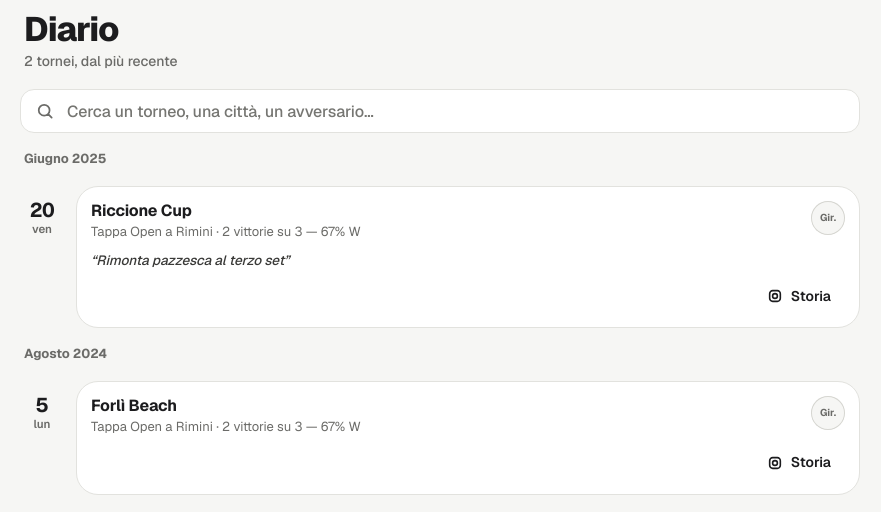
Test case: Diario — pulsante di reset › svuota il campo, rimette tutto il diario e lascia il focus nel campo
Check: the link "Riccione Cup" is shown, box [91, 200, 192, 221]
Click the search field named "Cerca nel diario" at (435, 111), box [65, 90, 805, 132]
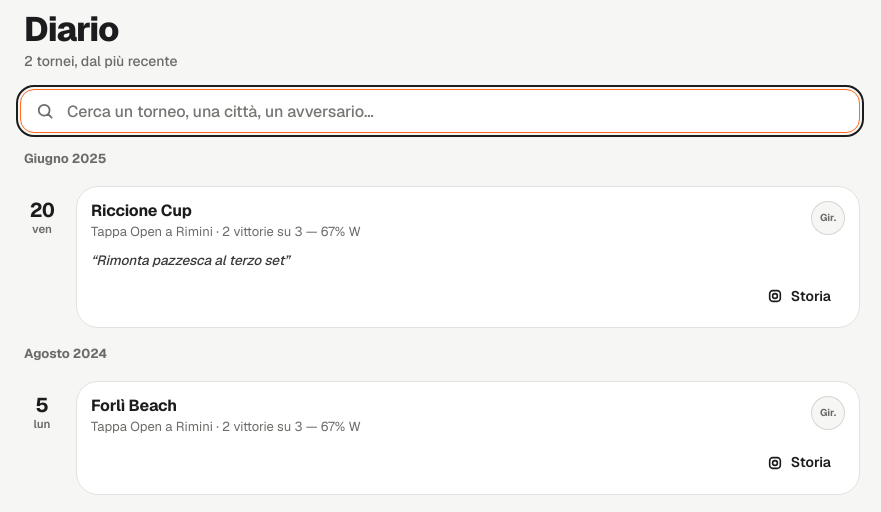
Type keys "forli"
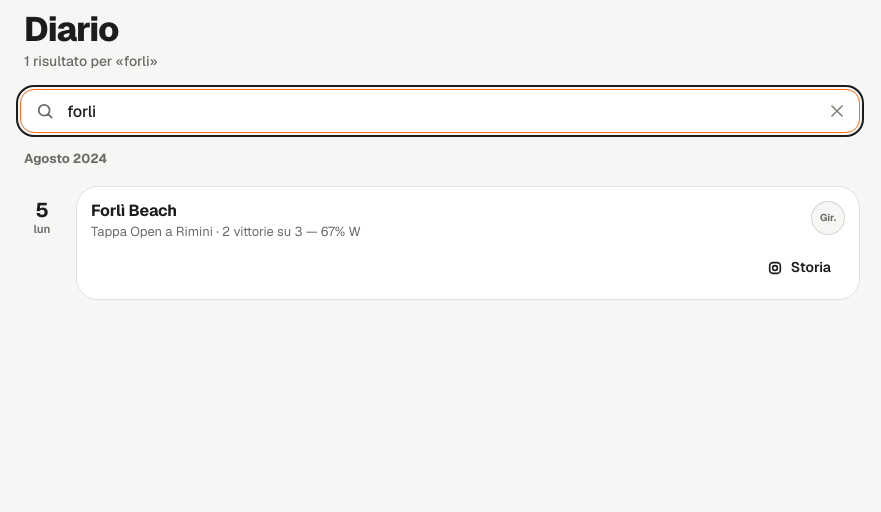
Click the button named "Cancella la ricerca" at (837, 111), box [815, 89, 859, 133]
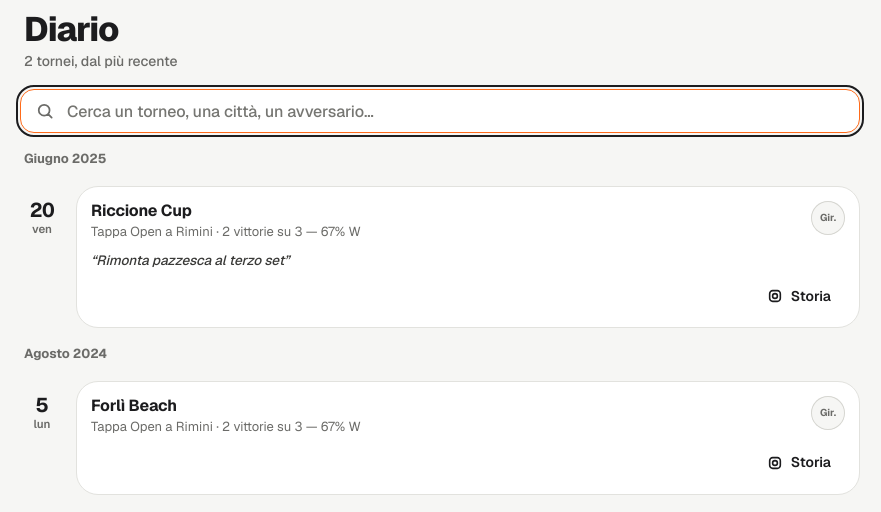
Check: the search field named "Cerca nel diario" is empty, box [65, 90, 805, 132]
